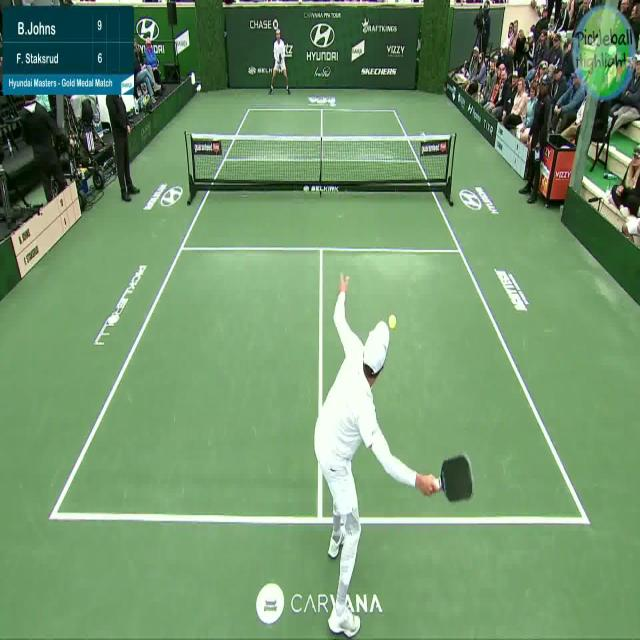ball: (386, 305, 399, 337)
